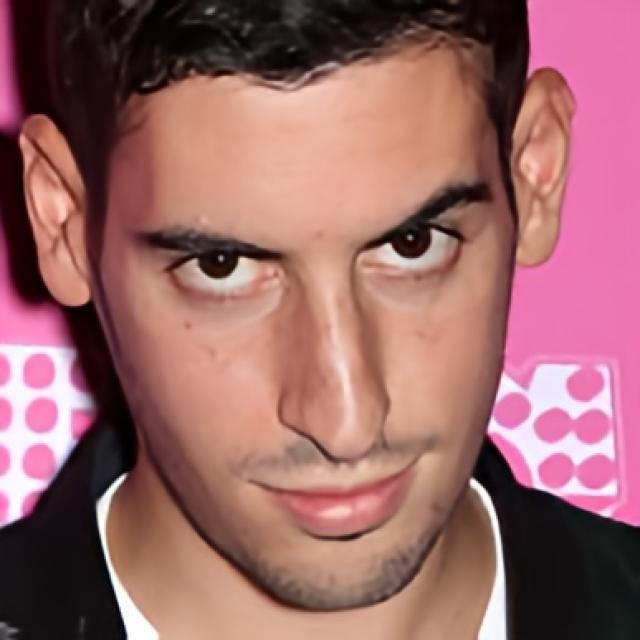content: (95, 1, 512, 610)
